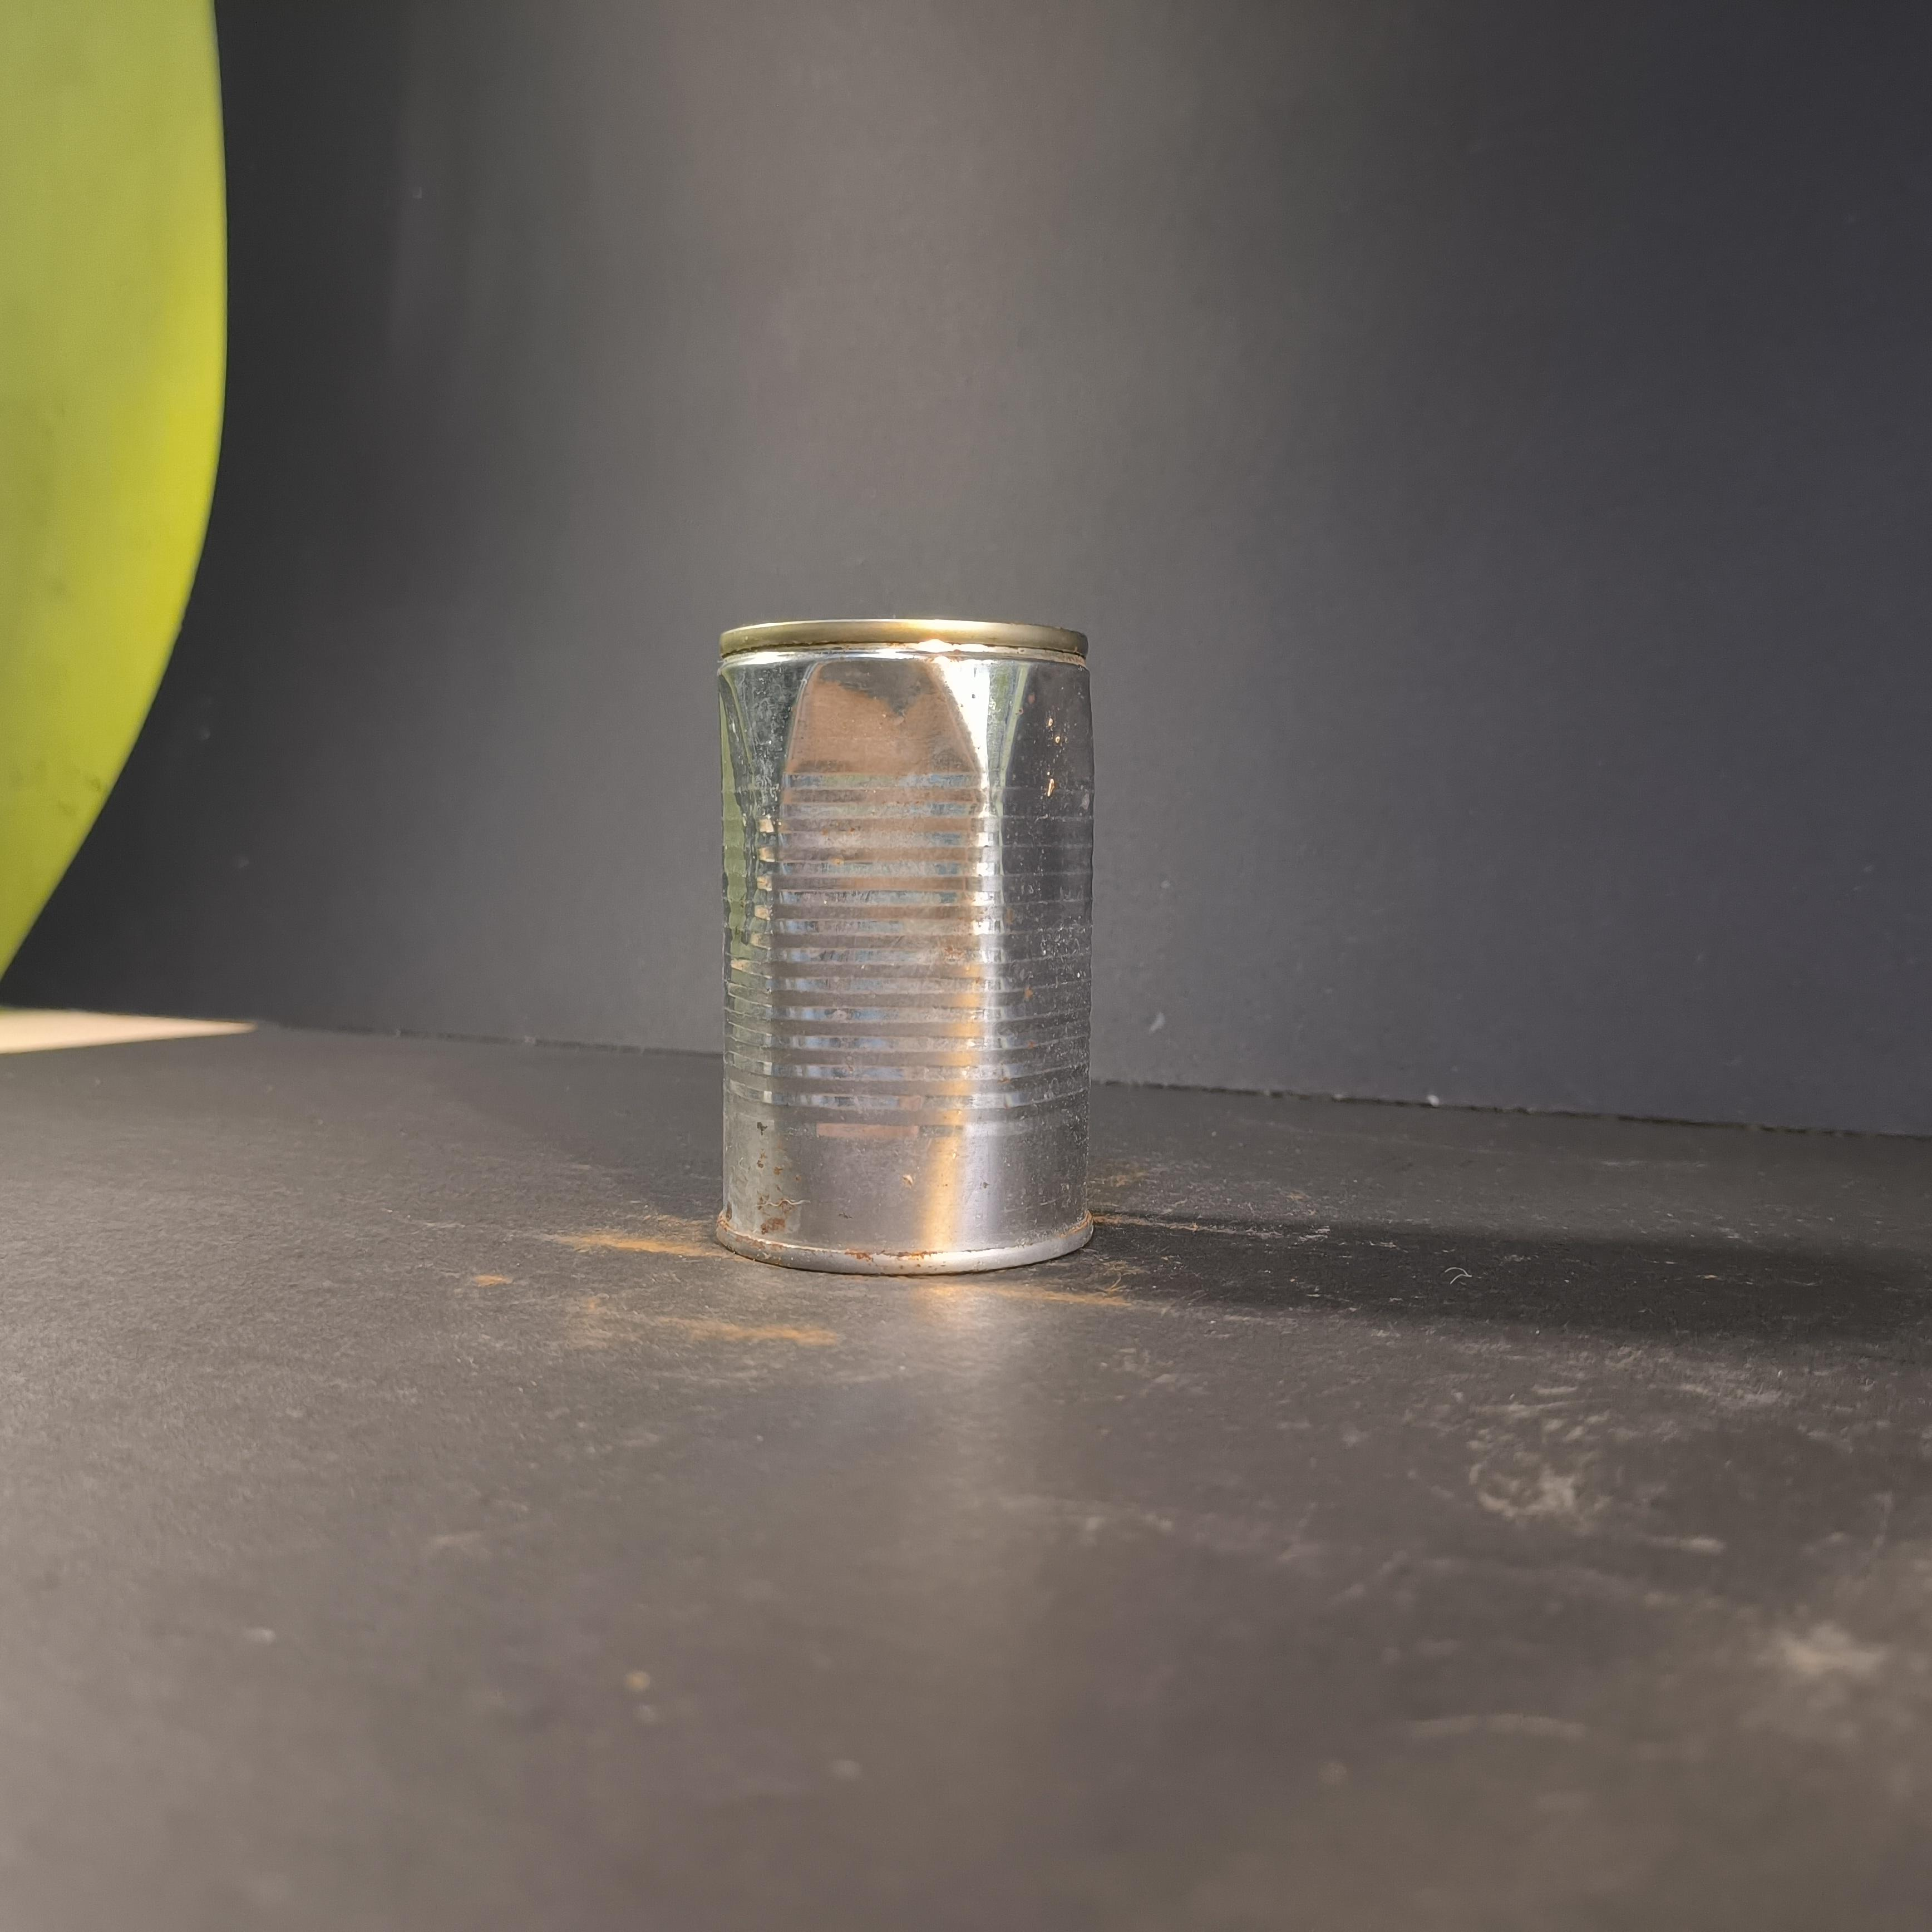Minor Defect: (716, 618, 1096, 1277)
